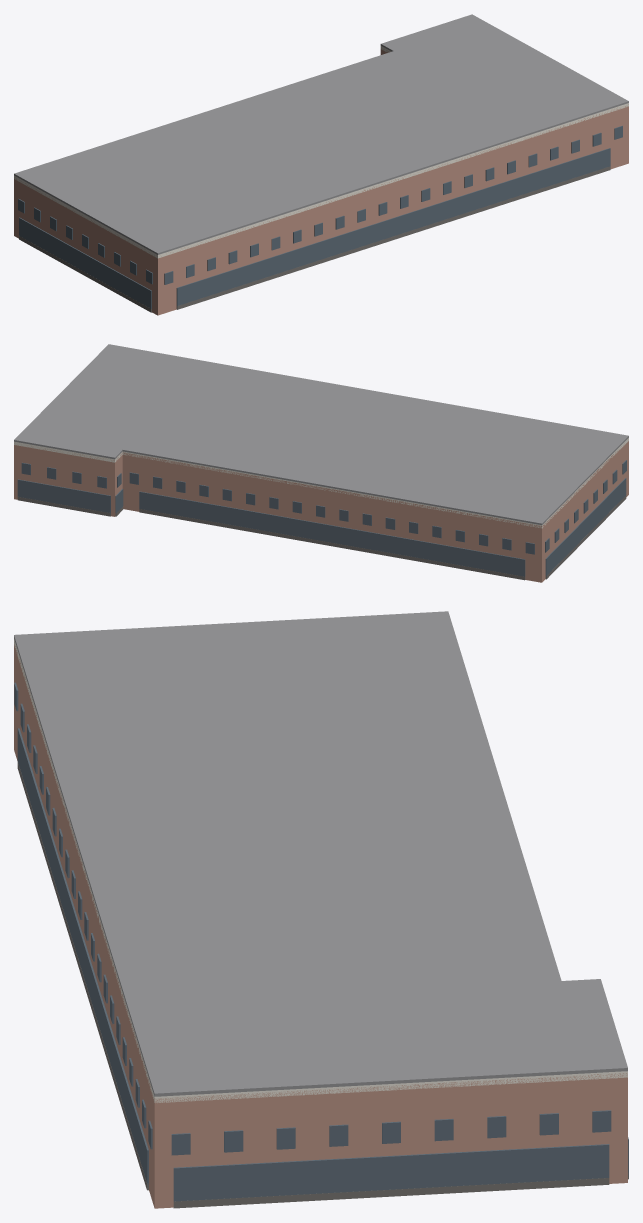
The model's file is s48_gis_248145_820625.glb.
3 views of the same model, one above another, from view 1: azimuth 30°, elevation 25°; view 2: azimuth 150°, elevation 25°; view 3: azimuth 270°, elevation 25° (orthographic). The views are drawn at different scales.
Visible parts, largest first — view 1: roofcap, mass, store_4, cornice, store_3, bulk_4, bulk_3; view 2: roofcap, mass, store_2, cornice, store_0, bulk_2, store_3, bulk_0, bulk_3; view 3: roofcap, mass, store_5, store_4, cornice, bulk_5, bulk_4.
Boxes of the visible parts, bbox=[...] form: roofcap: bbox=[14, 14, 628, 254]; mass: bbox=[14, 47, 628, 315]; store_4: bbox=[176, 148, 610, 307]; cornice: bbox=[14, 46, 628, 258]; store_3: bbox=[19, 217, 151, 308]; bulk_4: bbox=[176, 166, 610, 309]; bulk_3: bbox=[19, 236, 151, 312]; roofcap: bbox=[14, 344, 628, 525]; mass: bbox=[14, 441, 628, 582]; store_2: bbox=[139, 491, 525, 576]; cornice: bbox=[14, 438, 628, 528]; store_0: bbox=[17, 479, 110, 514]; bulk_2: bbox=[139, 509, 525, 580]; store_3: bbox=[545, 478, 626, 577]; bulk_0: bbox=[17, 497, 110, 516]; bulk_3: bbox=[545, 495, 626, 579]; roofcap: bbox=[14, 611, 627, 1096]; mass: bbox=[14, 644, 627, 1208]; store_5: bbox=[173, 1144, 609, 1201]; store_4: bbox=[17, 728, 148, 1186]; cornice: bbox=[14, 639, 627, 1102]; bulk_5: bbox=[173, 1178, 609, 1208]; bulk_4: bbox=[17, 762, 148, 1190].
Bounding box in the file's own units: 75.1 × 8.35 × 40.47.
